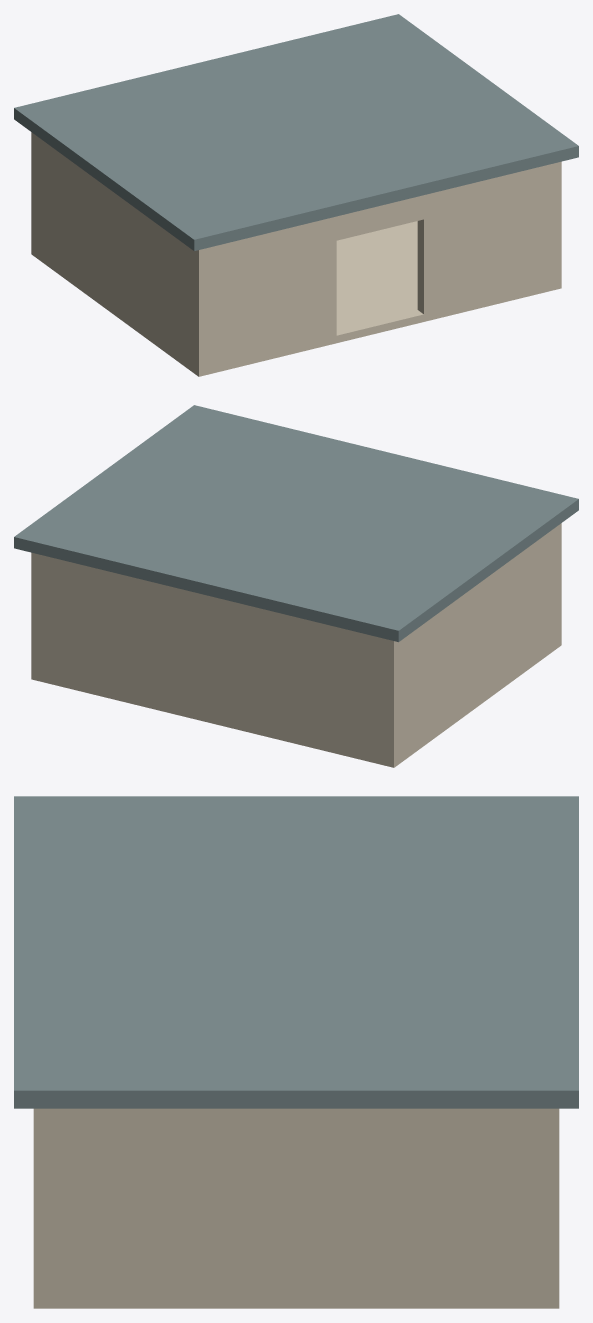
Rendered from pavilion.glb.
3 renders of one model, top to bottom at view 1: azimuth 30°, elevation 25°; view 2: azimuth 150°, elevation 25°; view 3: azimuth 270°, elevation 25°, orthographic. The views are drawn at different scales.
Visible parts, largest first — view 1: Roof, West, FrontRight, FrontLeft, Floor, Lintel, Back; view 2: Roof, Back, West, Floor, East; view 3: Roof, East, Floor, FrontRight, Back.
Part boxes in pixels (x1,y1,x2,y2): Roof: (14, 14, 578, 251); West: (31, 132, 209, 372); FrontRight: (417, 161, 561, 317); FrontLeft: (192, 216, 336, 372); Floor: (31, 221, 561, 376); Lintel: (336, 195, 423, 240); Back: (31, 134, 37, 254); Roof: (14, 405, 578, 642); Back: (31, 554, 396, 763); West: (383, 523, 561, 763); Floor: (31, 638, 561, 767); East: (31, 552, 41, 674); Roof: (14, 796, 578, 1108); East: (33, 1108, 559, 1302); Floor: (33, 1296, 559, 1308); FrontRight: (33, 1108, 53, 1302); Back: (539, 1108, 559, 1301).
Bounding box in the file's own units: 10.6 × 3.8 × 8.6.
